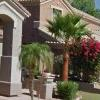Palm tree: (52, 11, 84, 75)
